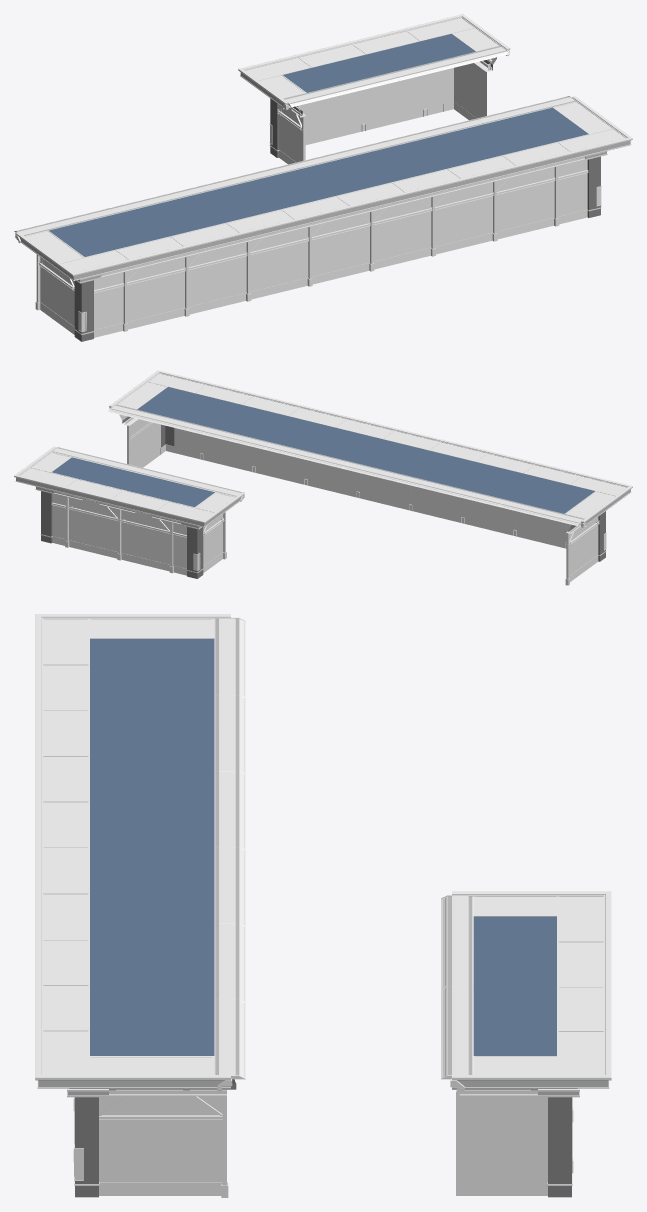
3 renders of one model, top to bottom at view 1: azimuth 30°, elevation 25°; view 2: azimuth 150°, elevation 25°; view 3: azimuth 270°, elevation 25°, orthographic. The views are drawn at different scales.
Visible parts, largest first — view 1: SM_I_RoadFacility_Ground_L_12C; view 2: SM_I_RoadFacility_Ground_L_12C; view 3: SM_I_RoadFacility_Ground_L_12C.
Part boxes in pixels (x1,y1,x2,y2): SM_I_RoadFacility_Ground_L_12C: [14, 14, 632, 341]; SM_I_RoadFacility_Ground_L_12C: [14, 370, 632, 585]; SM_I_RoadFacility_Ground_L_12C: [35, 614, 611, 1197].
Bounding box in the file's own units: 1241 × 2363 × 325.
